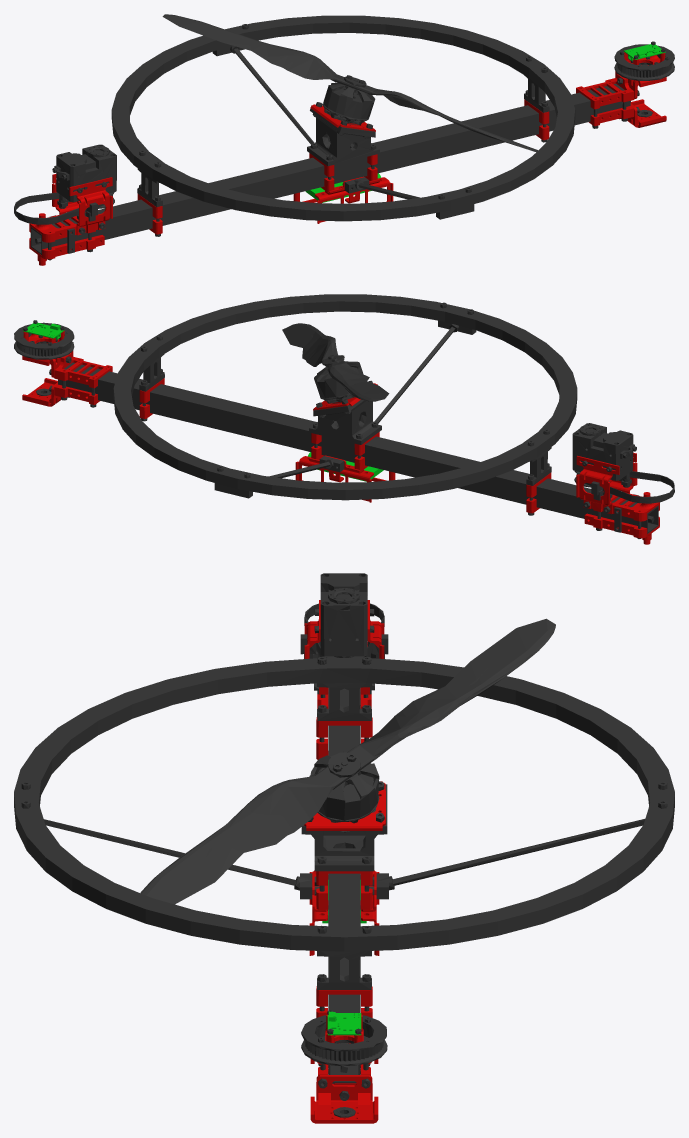
The model's file is tilt_20deg_link3.dae.
3 views of the same model, one above another, from view 1: azimuth 30°, elevation 25°; view 2: azimuth 150°, elevation 25°; view 3: azimuth 270°, elevation 25° (orthographic). The views are drawn at different scales.
Parts seen in each view (by area): view 1: tilt_20deg_link3_black_part, tilt_link3_red_part, link3_green_part; view 2: tilt_20deg_link3_black_part, tilt_link3_red_part, link3_green_part; view 3: tilt_20deg_link3_black_part, tilt_link3_red_part, link3_green_part.
Part boxes in pixels (<box>): tilt_20deg_link3_black_part: <box>14,14,674,260</box>; tilt_link3_red_part: <box>29,52,666,265</box>; link3_green_part: <box>305,44,665,202</box>; tilt_20deg_link3_black_part: <box>14,294,674,538</box>; tilt_link3_red_part: <box>22,331,659,544</box>; link3_green_part: <box>23,322,383,481</box>; tilt_20deg_link3_black_part: <box>14,573,674,1117</box>; tilt_link3_red_part: <box>304,600,385,1123</box>; link3_green_part: <box>322,880,366,1035</box>.
Bounding box in the file's own units: 0.6504 × 0.3997 × 0.1563.
